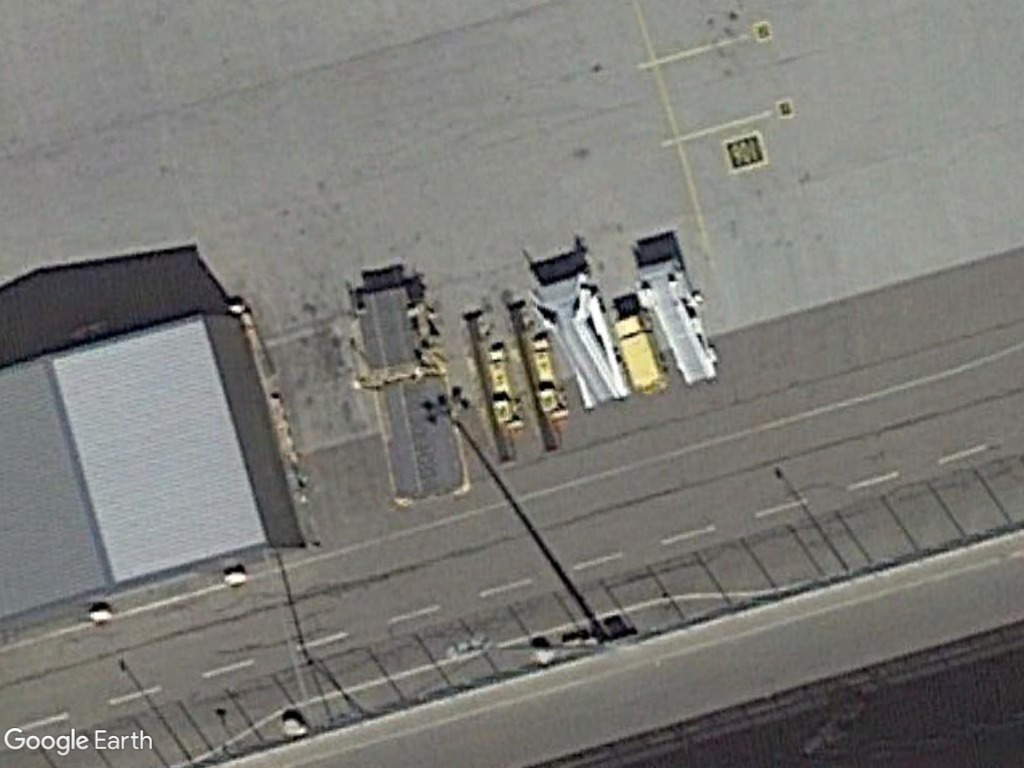stairtruck: (526, 265, 637, 411), (625, 251, 719, 387)
